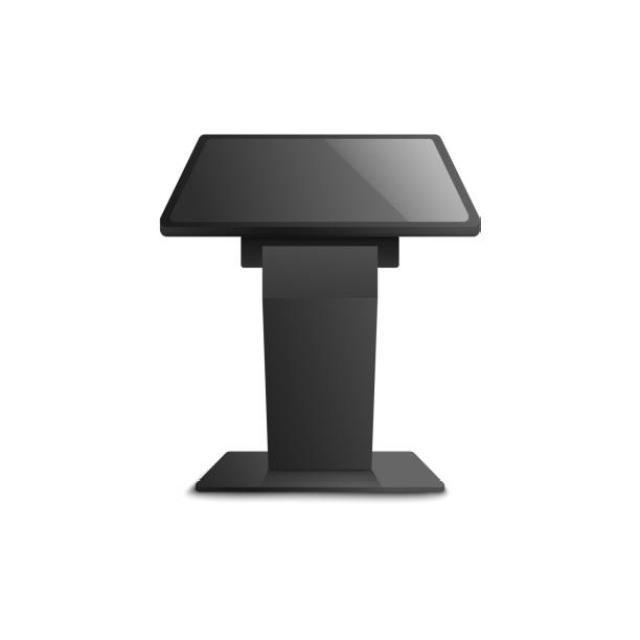table: (158, 132, 480, 494)
